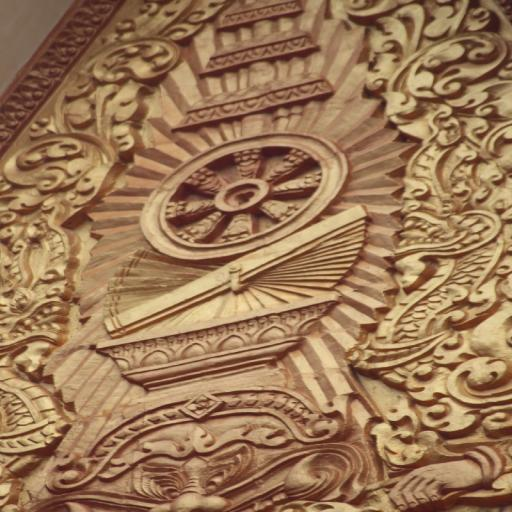la: (428, 110, 512, 207), (414, 27, 512, 102), (36, 78, 145, 140), (0, 142, 94, 192), (88, 42, 175, 79)
ran: (399, 212, 510, 354), (0, 293, 73, 450)
